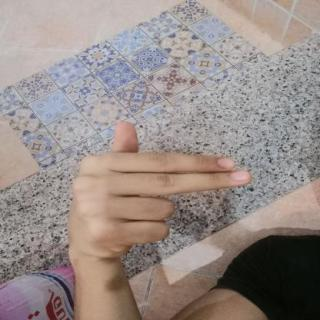GHAYN: (52, 114, 265, 264)
